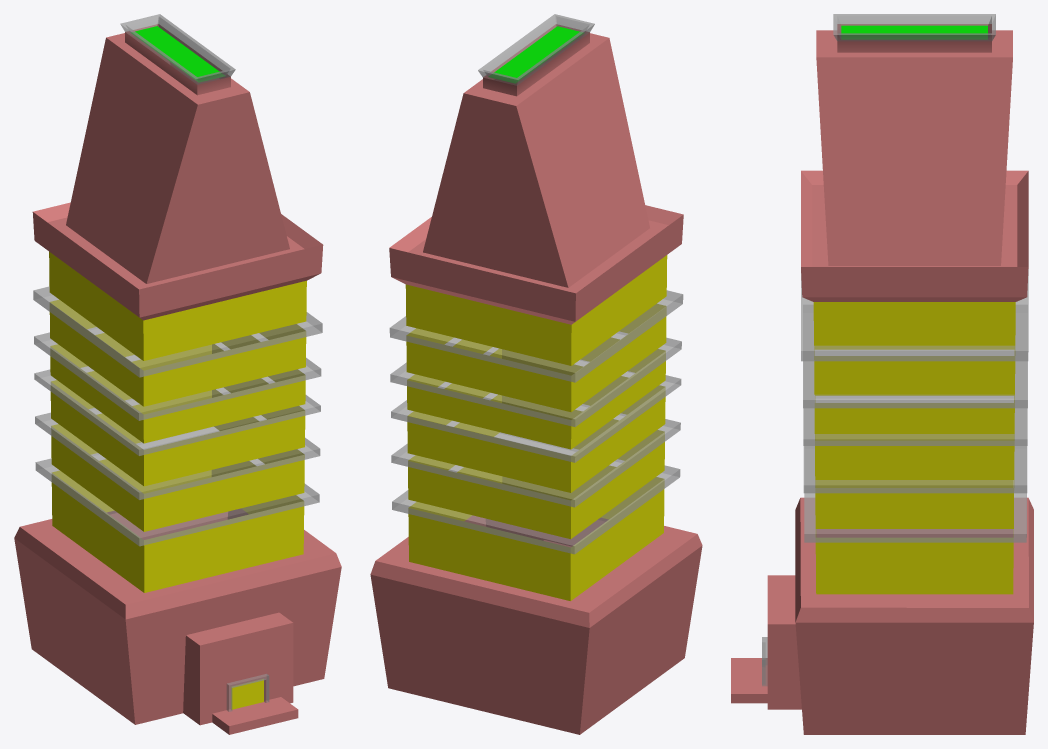
File: SM_L_Building_C.fbx
3 renders of one model, left to right at view 1: azimuth 30°, elevation 25°; view 2: azimuth 150°, elevation 25°; view 3: azimuth 270°, elevation 25°, orthographic. The views are drawn at different scales.
Visible parts, largest first — view 1: SM_L_Building_C; view 2: SM_L_Building_C; view 3: SM_L_Building_C.
Boxes of the visible parts, bbox=[...] form: SM_L_Building_C: bbox=[14, 14, 341, 734]; SM_L_Building_C: bbox=[370, 14, 702, 734]; SM_L_Building_C: bbox=[731, 14, 1033, 734].
Size of what is drawn, in the model's own units: 2609 by 7120 by 2957.
